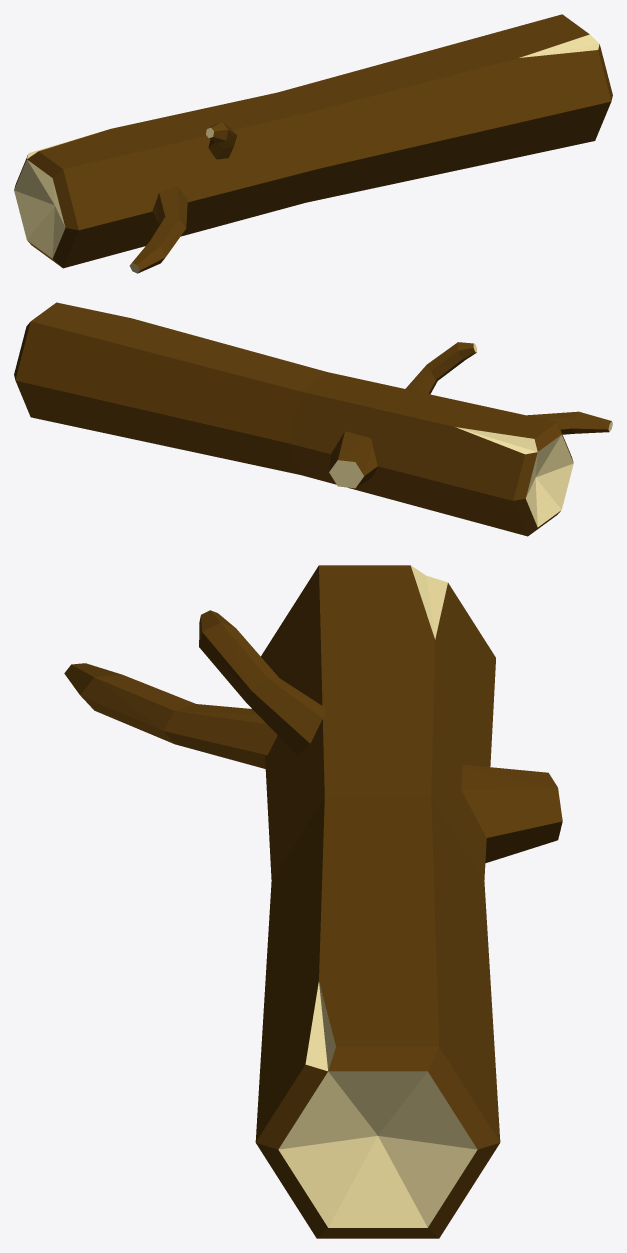
The model's file is LogC.fbx.
The picture shows the model from 3 angles, top to bottom: view 1: azimuth 30°, elevation 25°; view 2: azimuth 150°, elevation 25°; view 3: azimuth 270°, elevation 25°; orthographic projection. The views are drawn at different scales.
Parts seen in each view (by area): view 1: SketchUp.021; view 2: SketchUp.021; view 3: SketchUp.021.
Boxes of the visible parts, x1=… form: SketchUp.021: x1=14, y1=14, x2=612, y2=273; SketchUp.021: x1=14, y1=302, x2=612, y2=536; SketchUp.021: x1=64, y1=565, x2=562, y2=1238.
Bounding box in the file's own units: 394 × 93.07 × 167.
